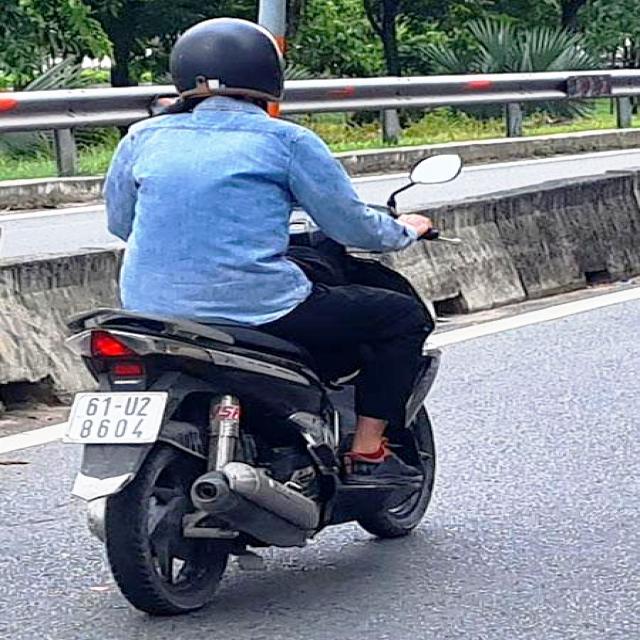license_plate: (64, 392, 164, 447)
